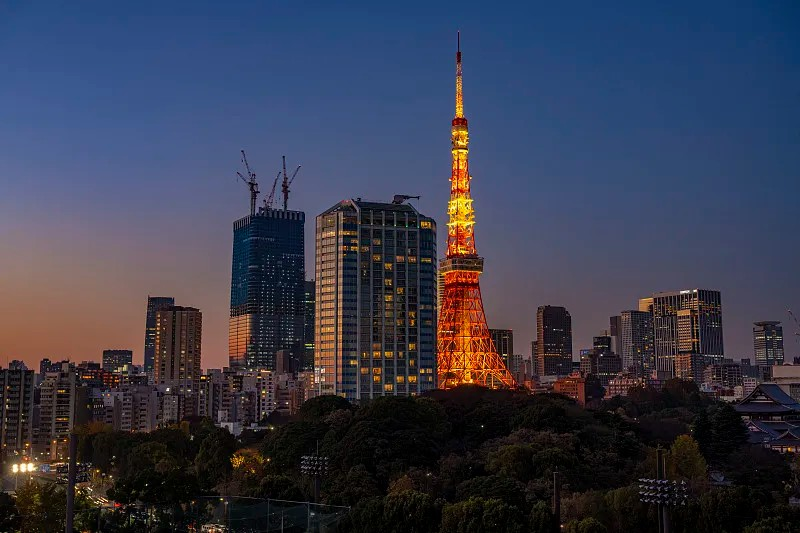Tokyo: (438, 28, 523, 392)
